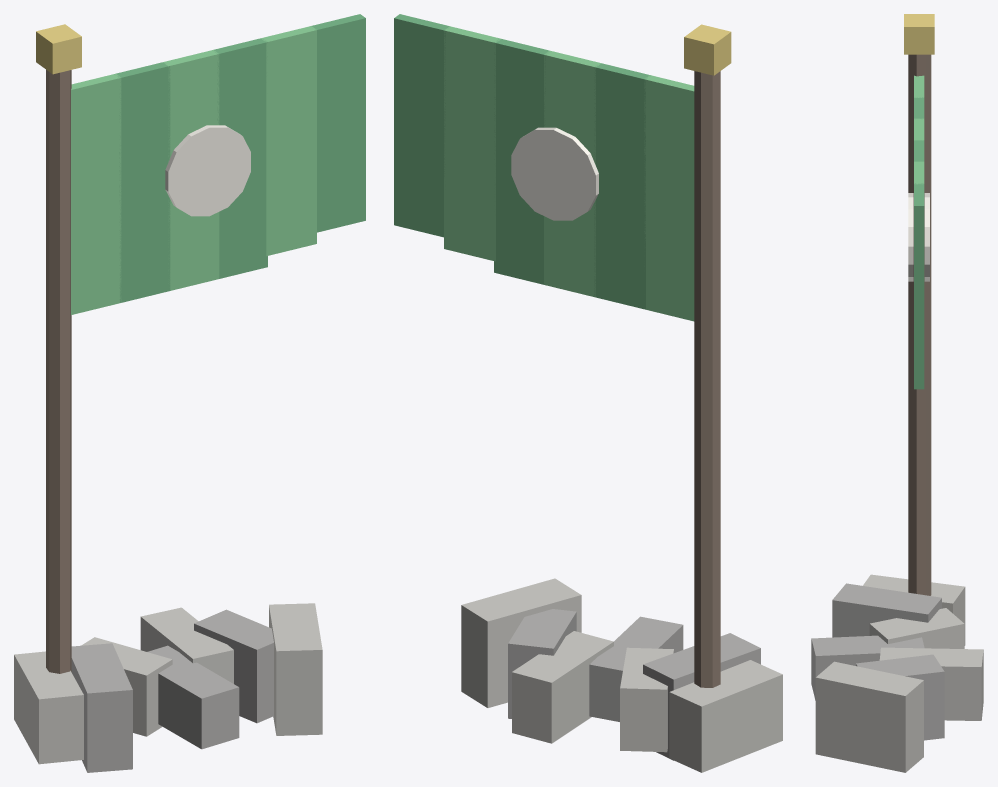
The model's file is ws_fx_alert_0.glb.
3 views of the same model, side by side, from view 1: azimuth 30°, elevation 25°; view 2: azimuth 150°, elevation 25°; view 3: azimuth 270°, elevation 25° (orthographic). The views are drawn at different scales.
Visible parts, largest first — view 1: ws_fx_alert_0; view 2: ws_fx_alert_0; view 3: ws_fx_alert_0.
Part boxes in pixels (left/top/right/bottom): ws_fx_alert_0: left=14, top=14, right=365, bottom=772; ws_fx_alert_0: left=394, top=14, right=782, bottom=772; ws_fx_alert_0: left=811, top=14, right=983, bottom=772.
Size of the model in its own units: 1.08 by 2.08 by 0.5046.
